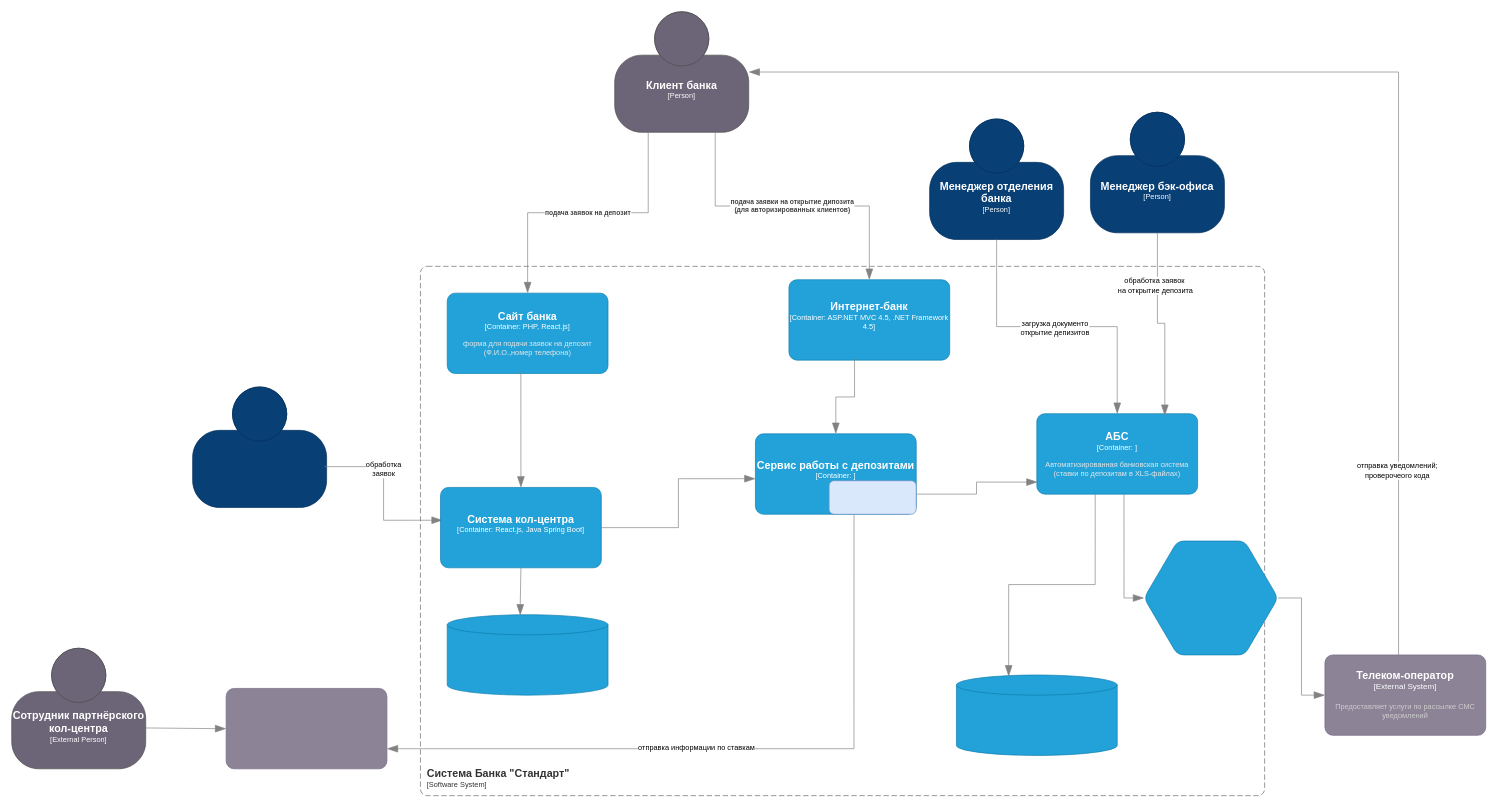
The diagram is 1497 pixels wide and 807 high, and some of its shapes have lost their labels. The shapes that lost their labels are listed below. From the top down, each one's box as (x1, y1, x2, y2) in pixels, then its label:
(192, 386, 327, 508): Менеджер кол-центра [Person]
(828, 480, 916, 514): модуль работы с отправкой файлов ставок
(1143, 540, 1278, 655): СМС-Шлюз [Container: ]
(447, 614, 608, 695): База Данных [Container: PostgreSQL] БД заявок
(225, 688, 387, 769): Система партнёрского кол-центра [Software System]
(956, 674, 1117, 755): База Данных АБС [Container: MS SQL] БД договоров, бухгалтерии, операций, ...
